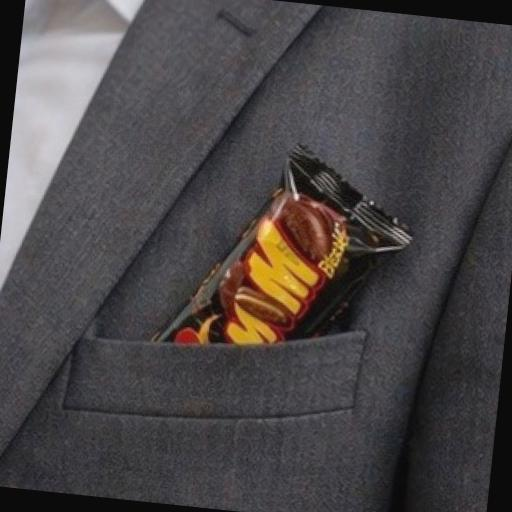MOMO: (121, 82, 461, 432)
